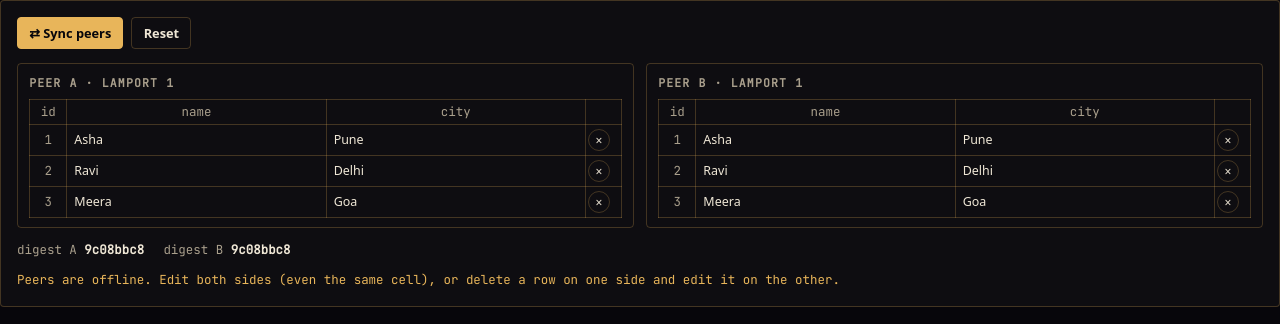
Test: CRDT merge › converges concurrent edits with a deterministic winner
Replace the text in the field named "Peer A row 1 name" with "FromA" at (197, 140), box [69,127,324,153]
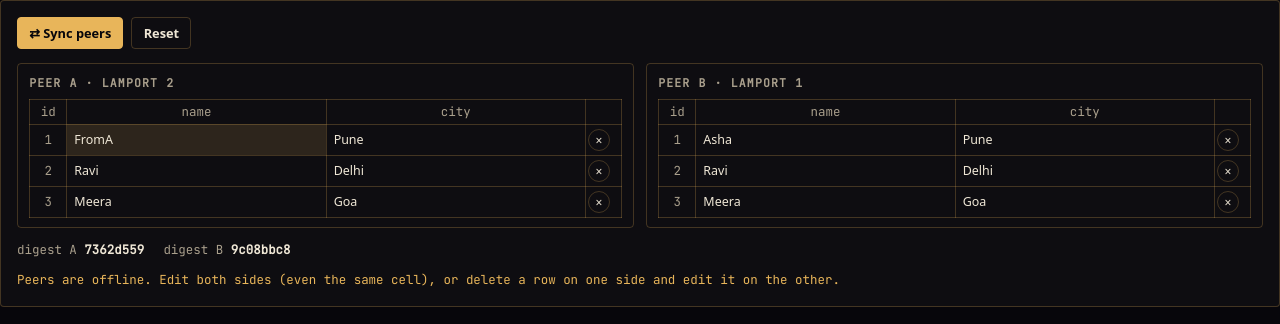
Replace the text in the field named "Peer B row 1 name" with "FromB" at (826, 140), box [698,127,953,153]
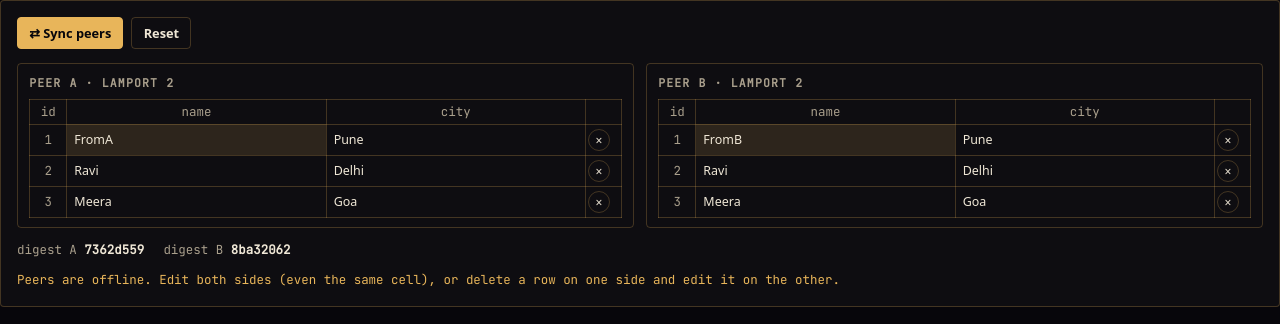
Click the button "⇄ Sync peers" at (70, 33), box [17,17,124,49]
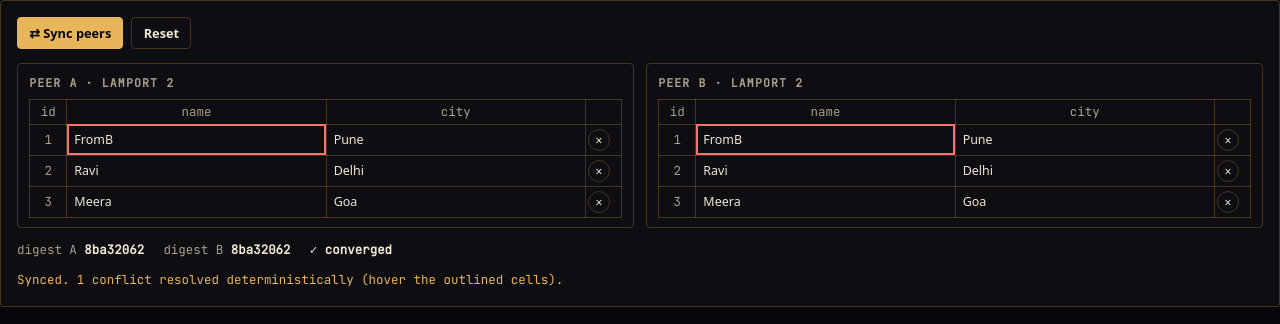
Expected: the field named "Peer A row 1 name" holds "FromB", [69,127,324,153]
Expected: the text "✓ converged" is shown, [310,240,392,260]
